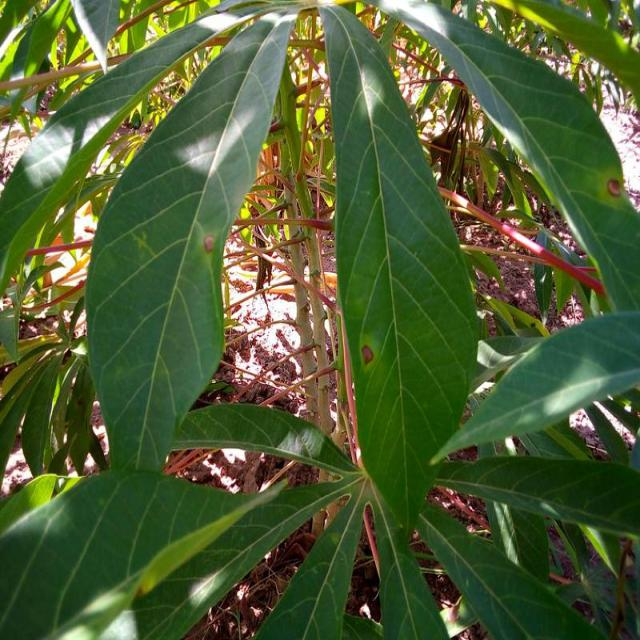cassava leaf: (83, 9, 296, 472), (317, 2, 481, 536)
